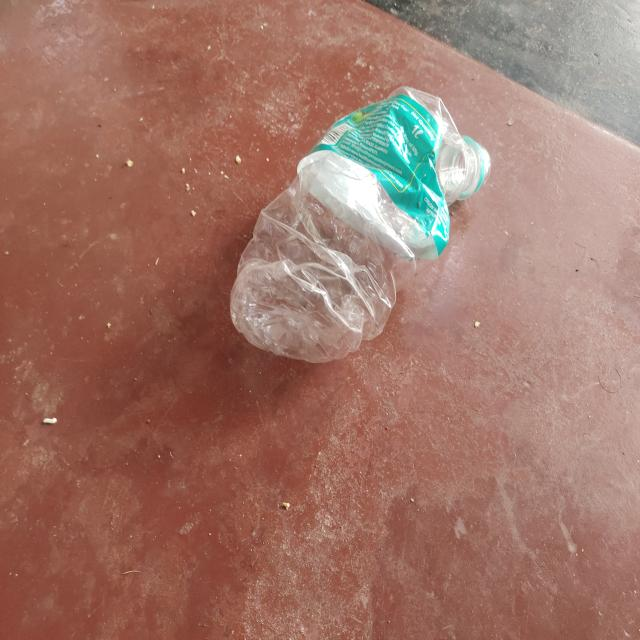plastic: (228, 79, 491, 368)
